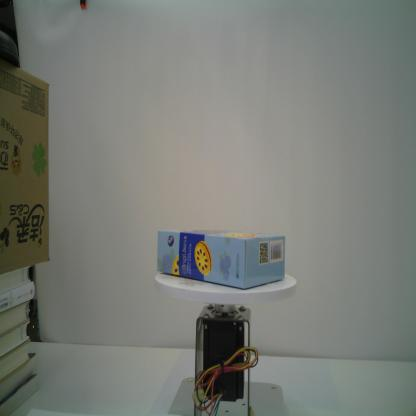Dessert: (156, 229, 286, 290)
